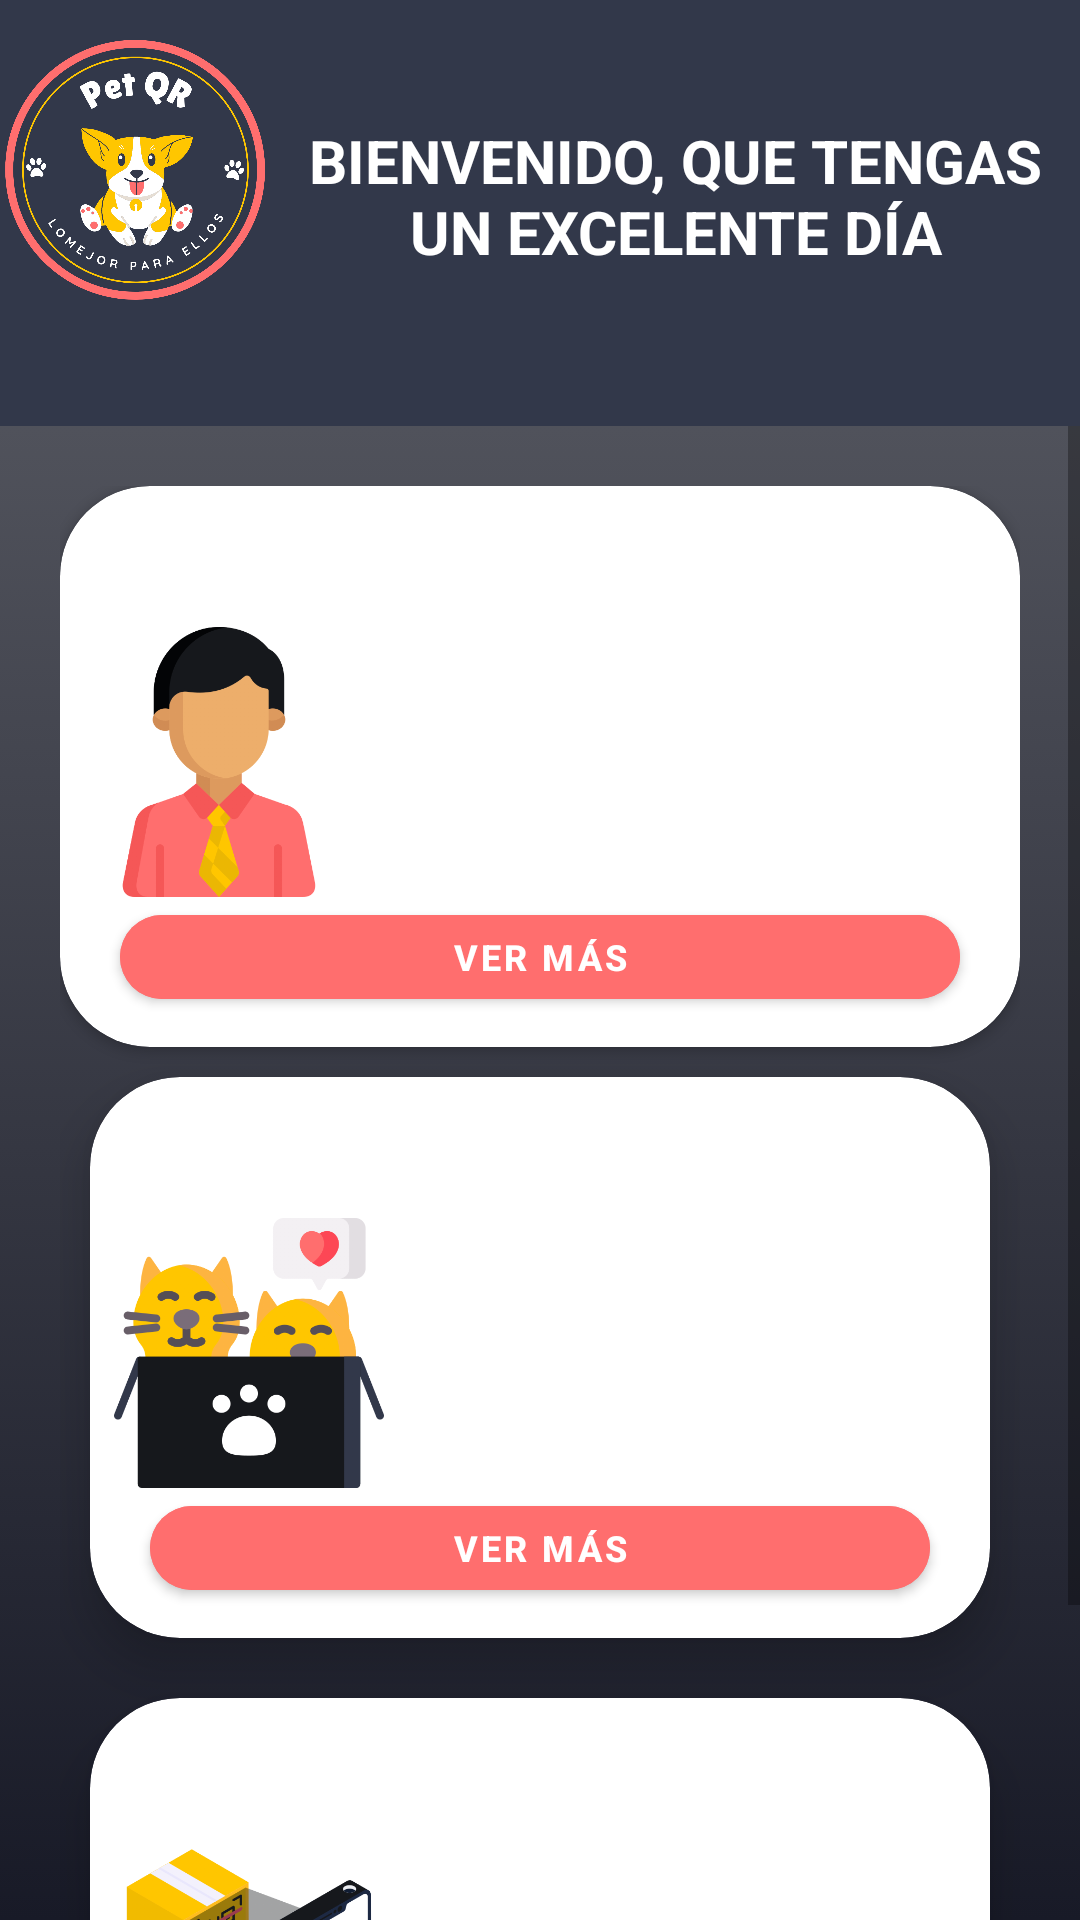

Screen size 1080×1920. Icon name, then its center in pixels as (x,y):
iconlogin: (219,762)
panel pet: (249,1353)
